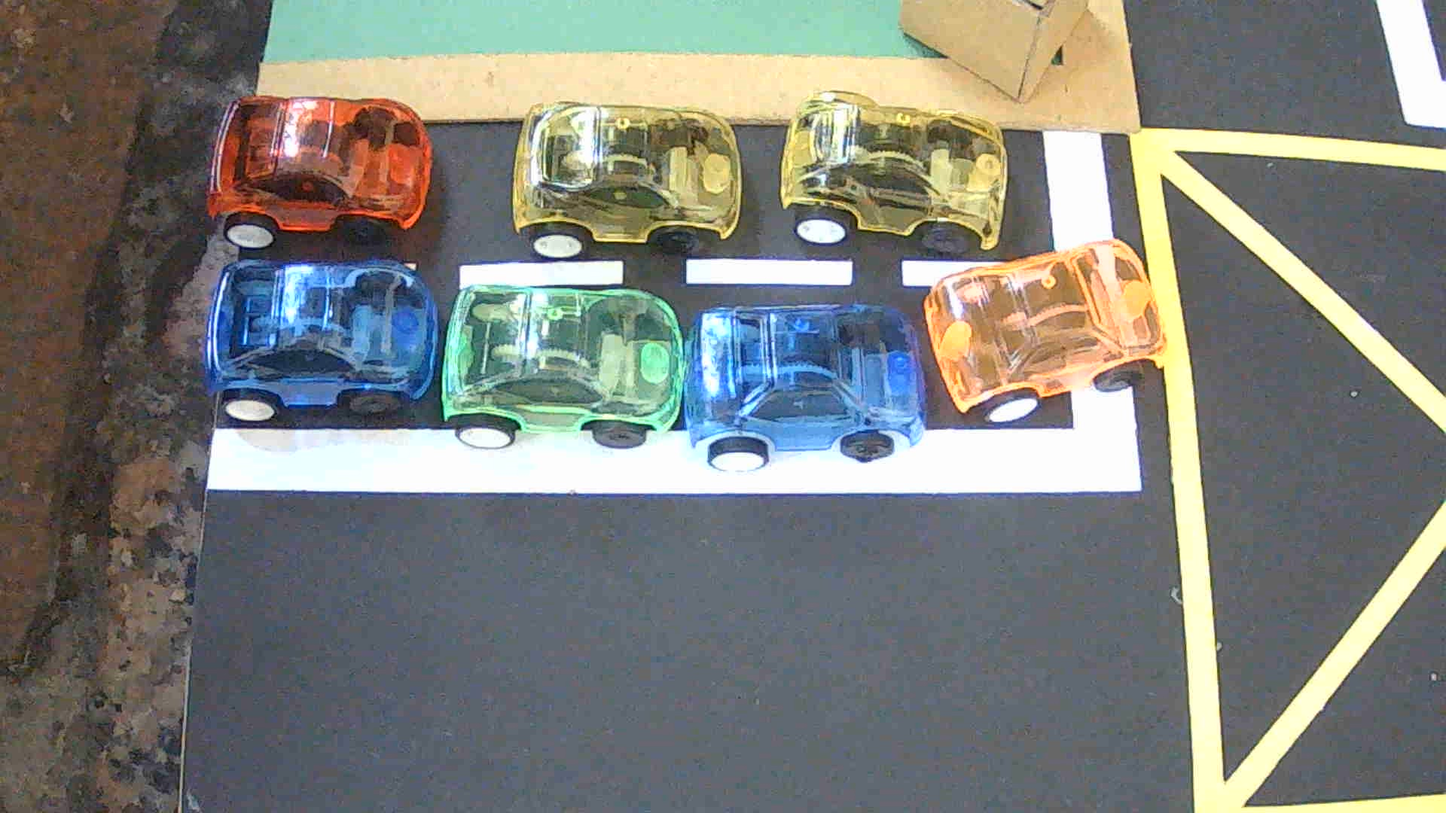Mobil biru: (683, 304, 925, 470), (203, 260, 438, 422)
Mobil hijau: (441, 285, 686, 448)
Mobil kuning: (780, 93, 1008, 254), (511, 102, 741, 258)
Mobil merah: (207, 96, 432, 248)
Mobil orange: (923, 239, 1165, 422)
